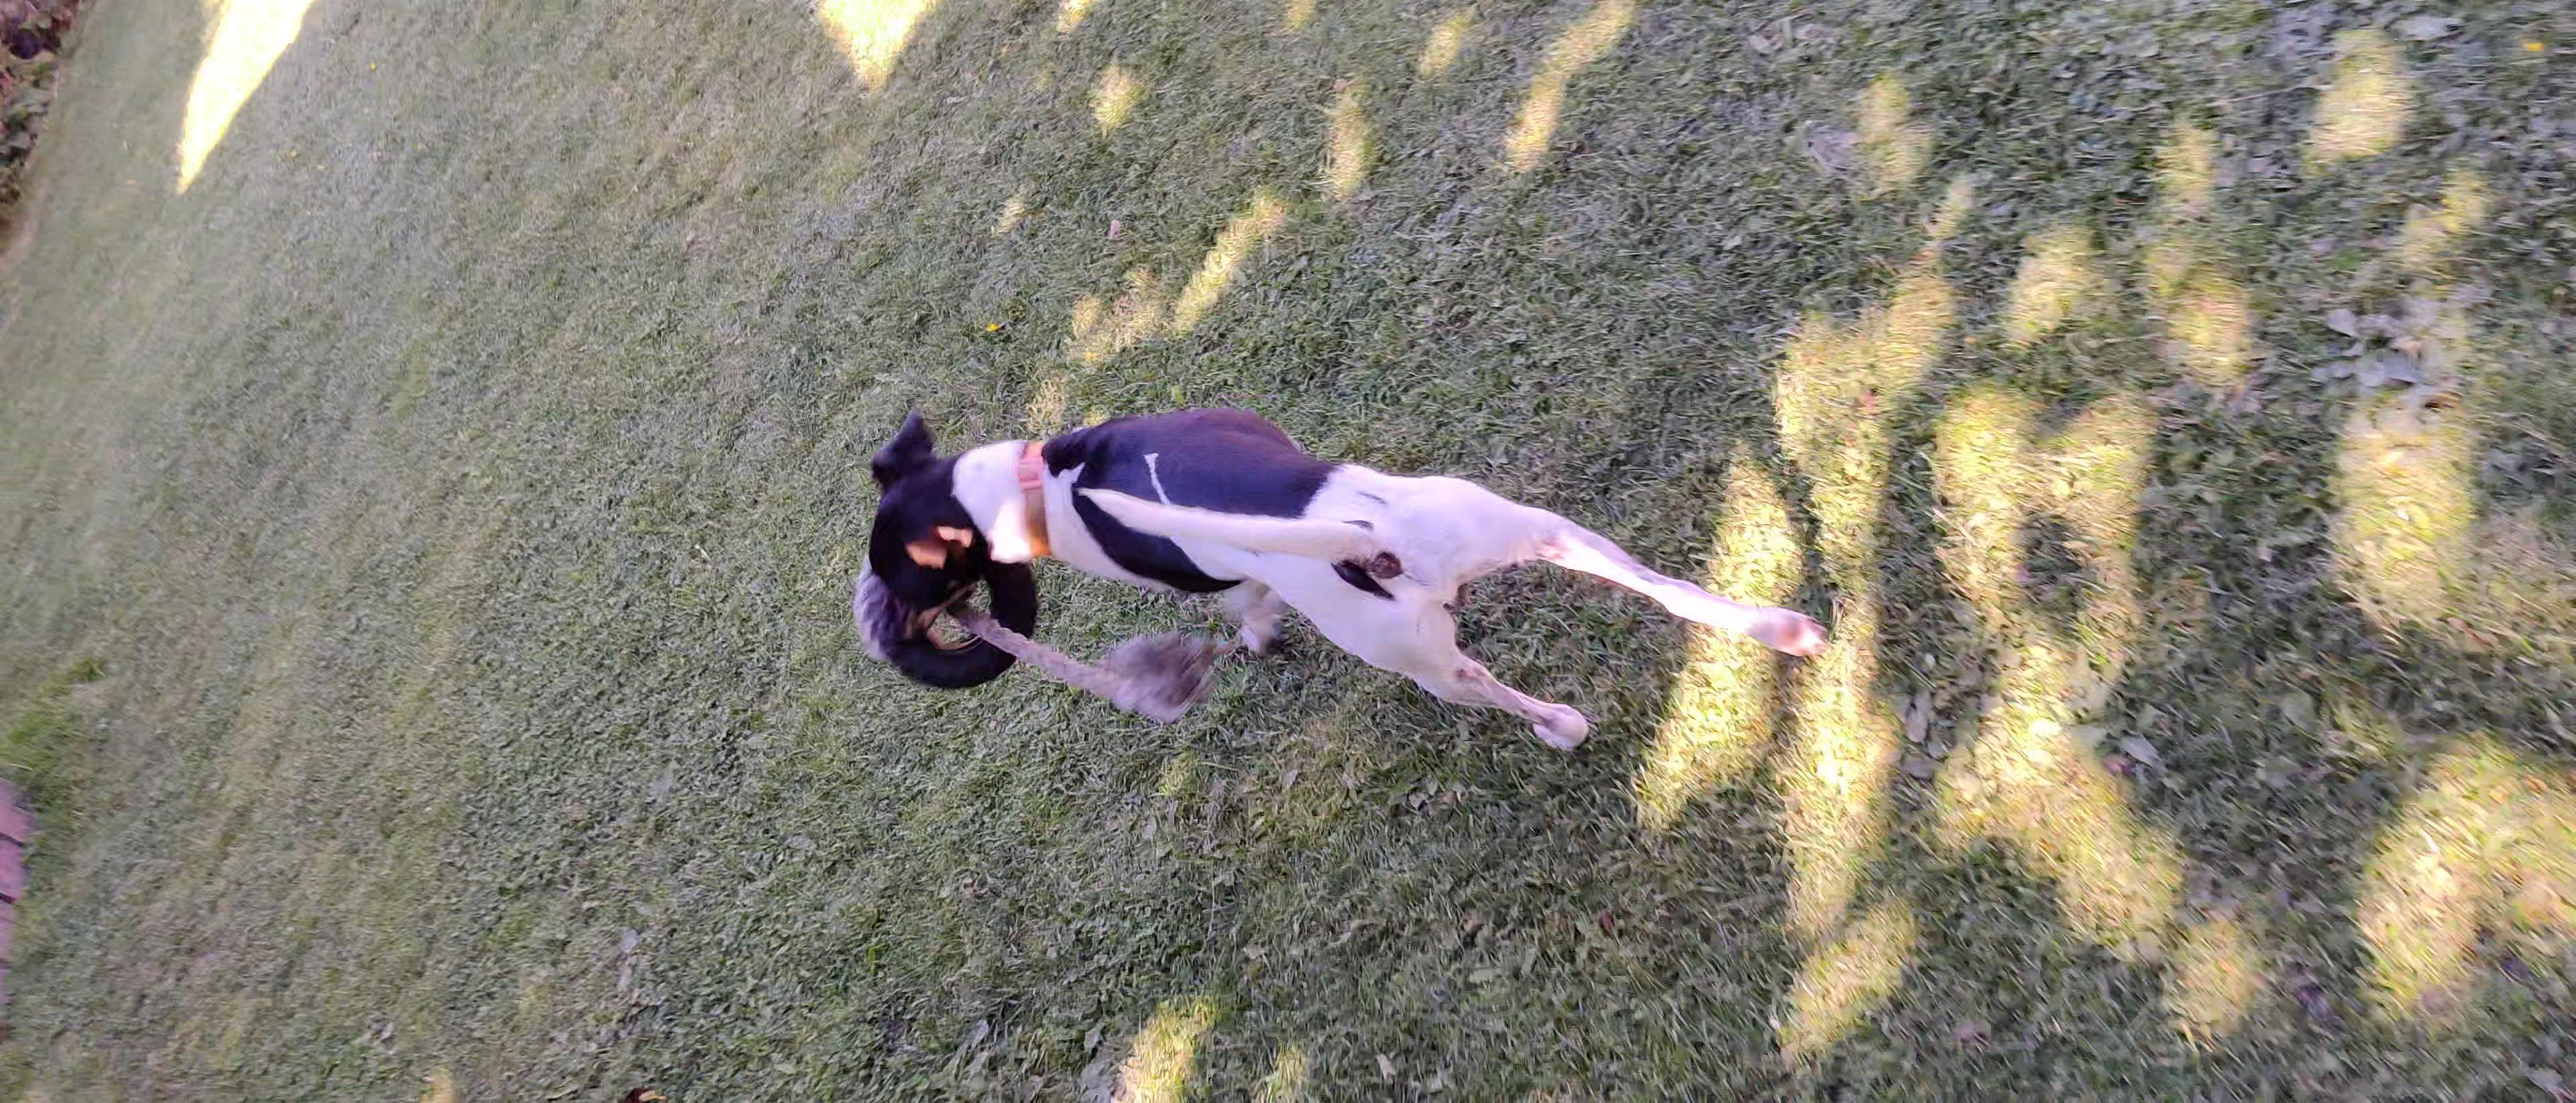Dog: (843, 388, 1833, 753)
